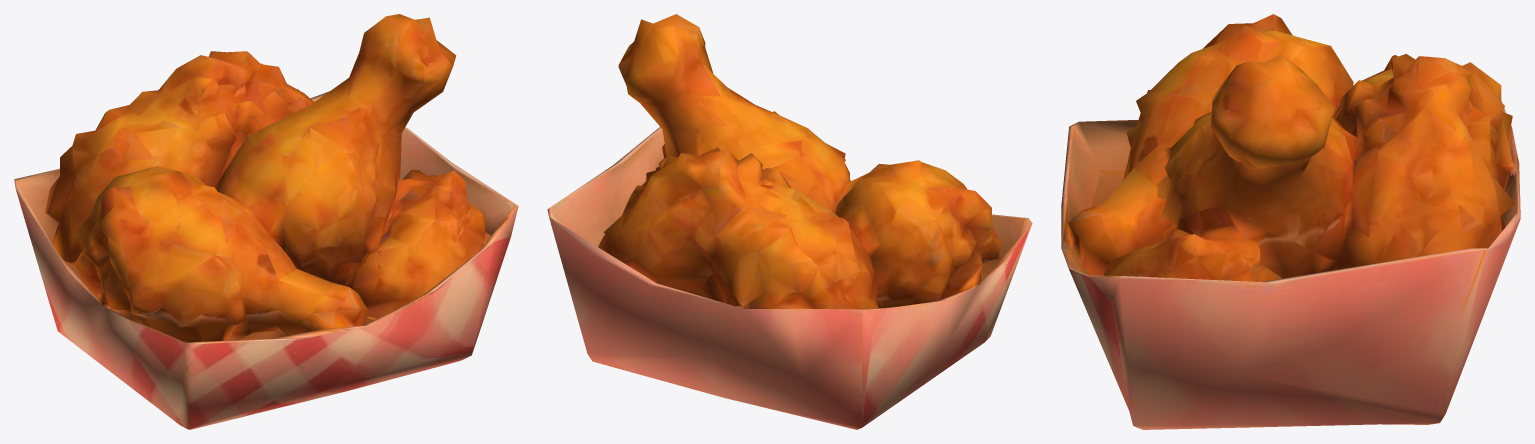
3 views of the same model, side by side, from view 1: azimuth 30°, elevation 25°; view 2: azimuth 150°, elevation 25°; view 3: azimuth 270°, elevation 25° (orthographic). The views are drawn at different scales.
Visible parts, largest first — view 1: chicken; view 2: chicken; view 3: chicken.
Boxes of the visible parts, left/top/right/bottom form: chicken: left=14, top=14, right=518, bottom=429; chicken: left=547, top=14, right=1032, bottom=429; chicken: left=1061, top=14, right=1520, bottom=429.
Size of the model in its own units: 0.2001 by 0.1595 by 0.1803.
1 material, 1 textured.
